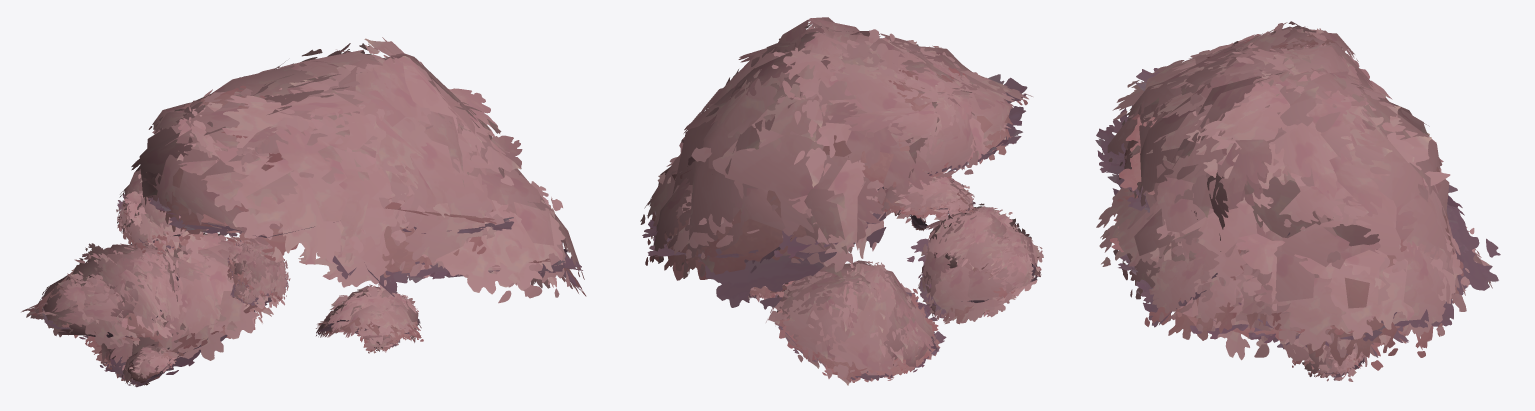
3 renders of one model, left to right at view 1: azimuth 30°, elevation 25°; view 2: azimuth 150°, elevation 25°; view 3: azimuth 270°, elevation 25°, orthographic. The views are drawn at different scales.
Parts seen in each view (by area): view 1: MS0003_28_02; view 2: MS0003_28_02; view 3: MS0003_28_02.
Boxes of the visible parts, x1=… form: MS0003_28_02: x1=21, y1=37, x2=586, y2=387; MS0003_28_02: x1=640, y1=17, x2=1043, y2=385; MS0003_28_02: x1=1095, y1=21, x2=1500, y2=381.
Size of the model in its own units: 2028 by 1334 by 1784.
